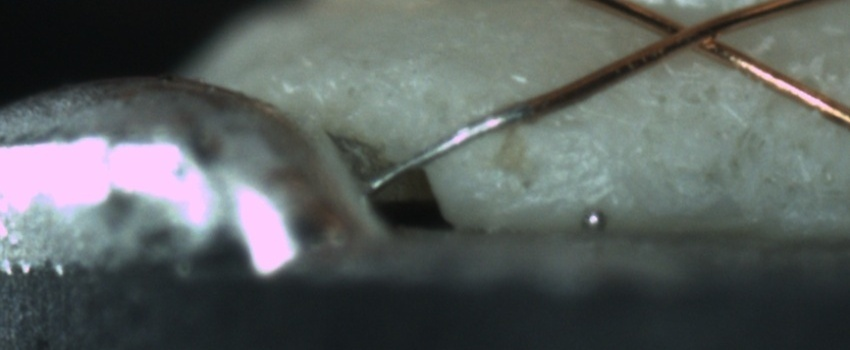CL: (648, 5, 743, 62)
TS: (368, 102, 531, 193)
TTCW: (364, 83, 573, 198)
